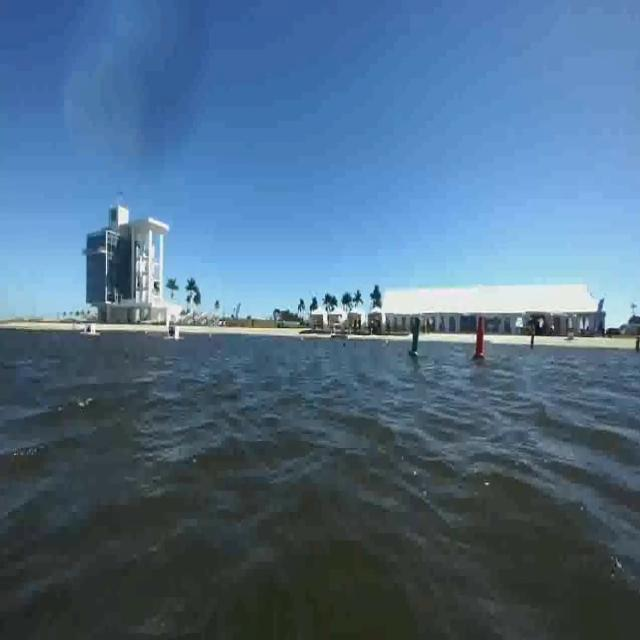green-column-buoy: (409, 314, 424, 358)
red-column-buoy: (470, 305, 488, 367)
